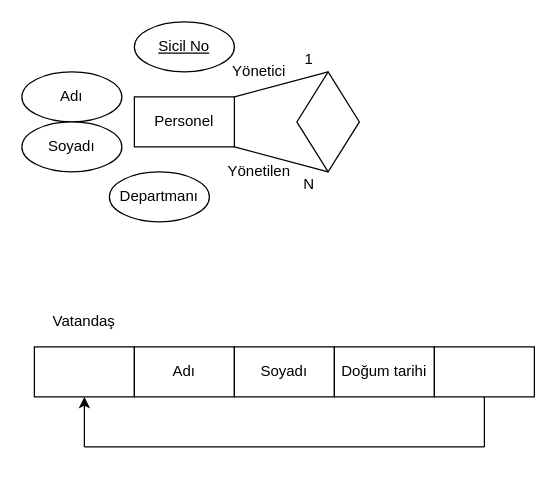
The diagram is 556 pixels wide and 479 high, and some of its shapes have lost their labels. Each missing label, with the box of its shape:
Eş TC kimlik no: (433, 346, 534, 397)
TC kimlik no: (33, 346, 134, 397)
Yönetir: (296, 71, 359, 172)
